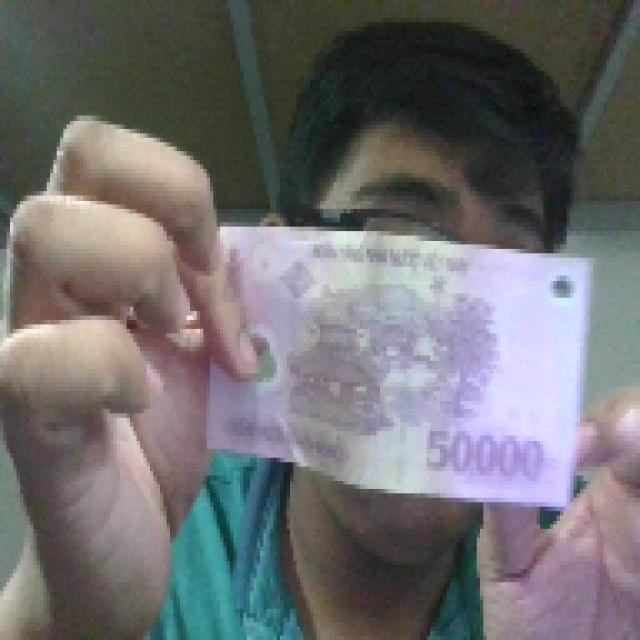50 000 VND: (200, 218, 593, 516)
